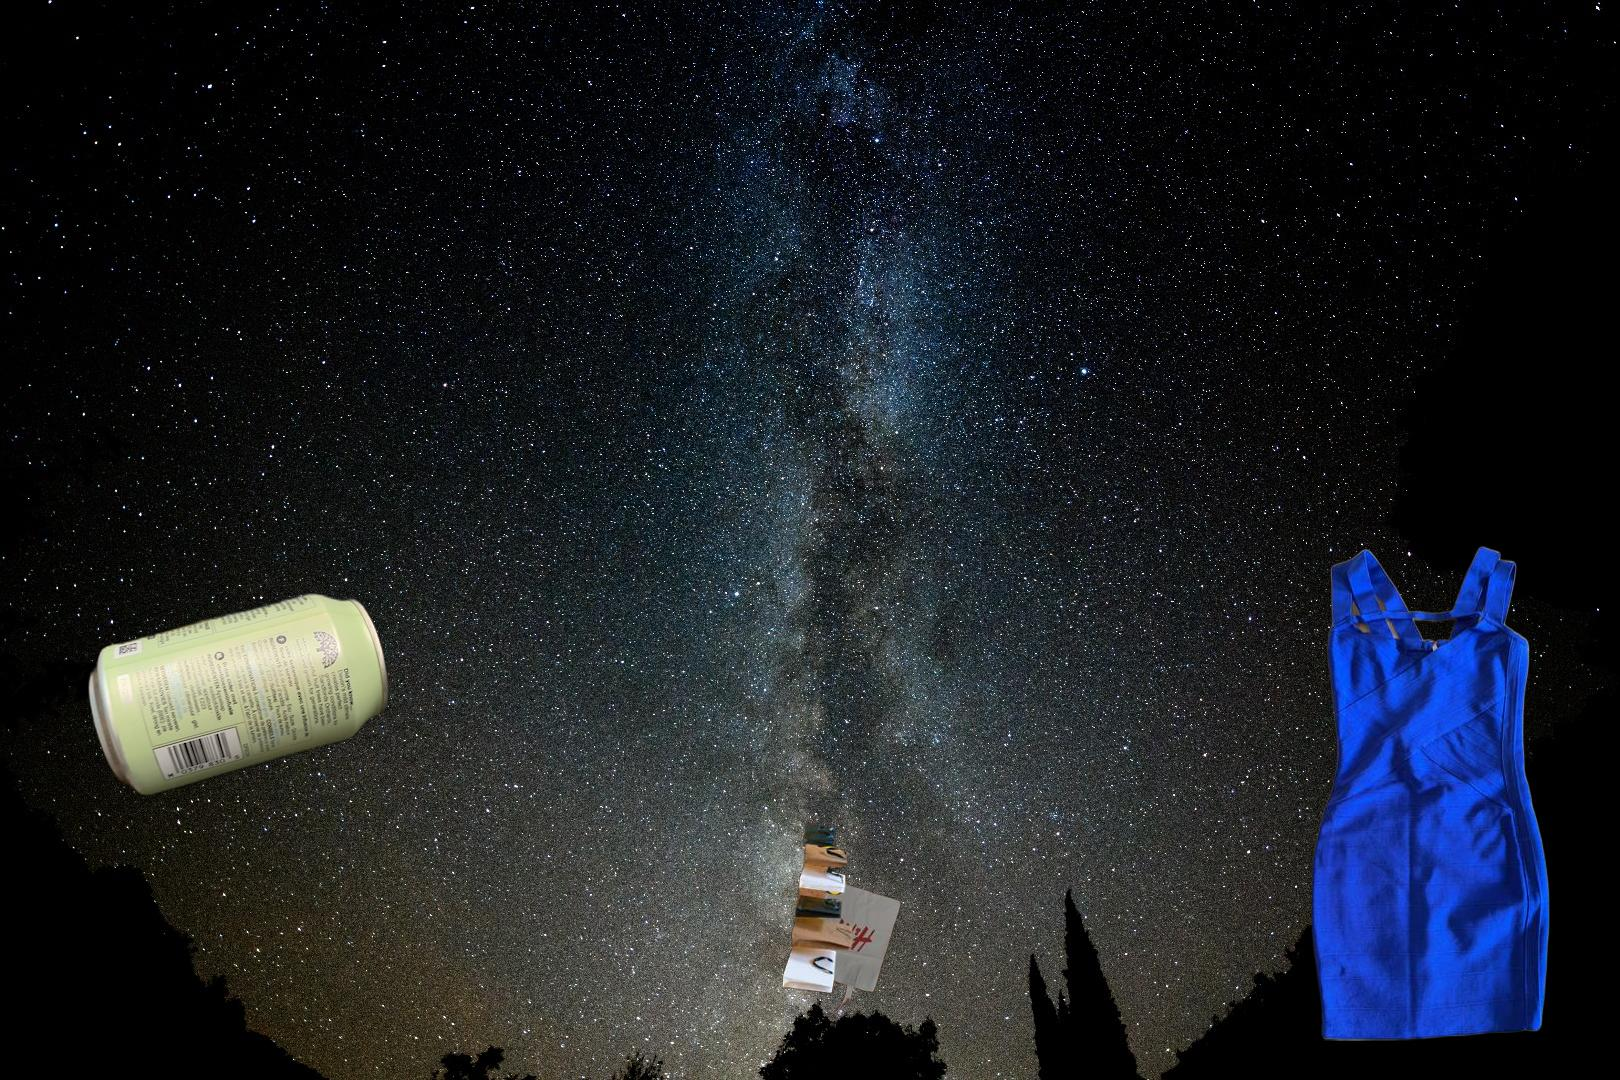clothes: (1308, 541, 1602, 1041)
metal-cans: (83, 588, 394, 802)
paper-bag: (779, 745, 1009, 1022)
